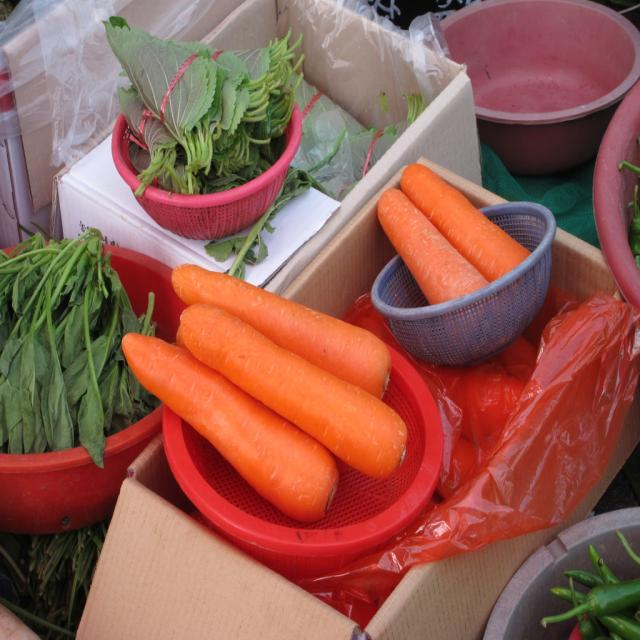Carrot: (120, 332, 339, 523)
